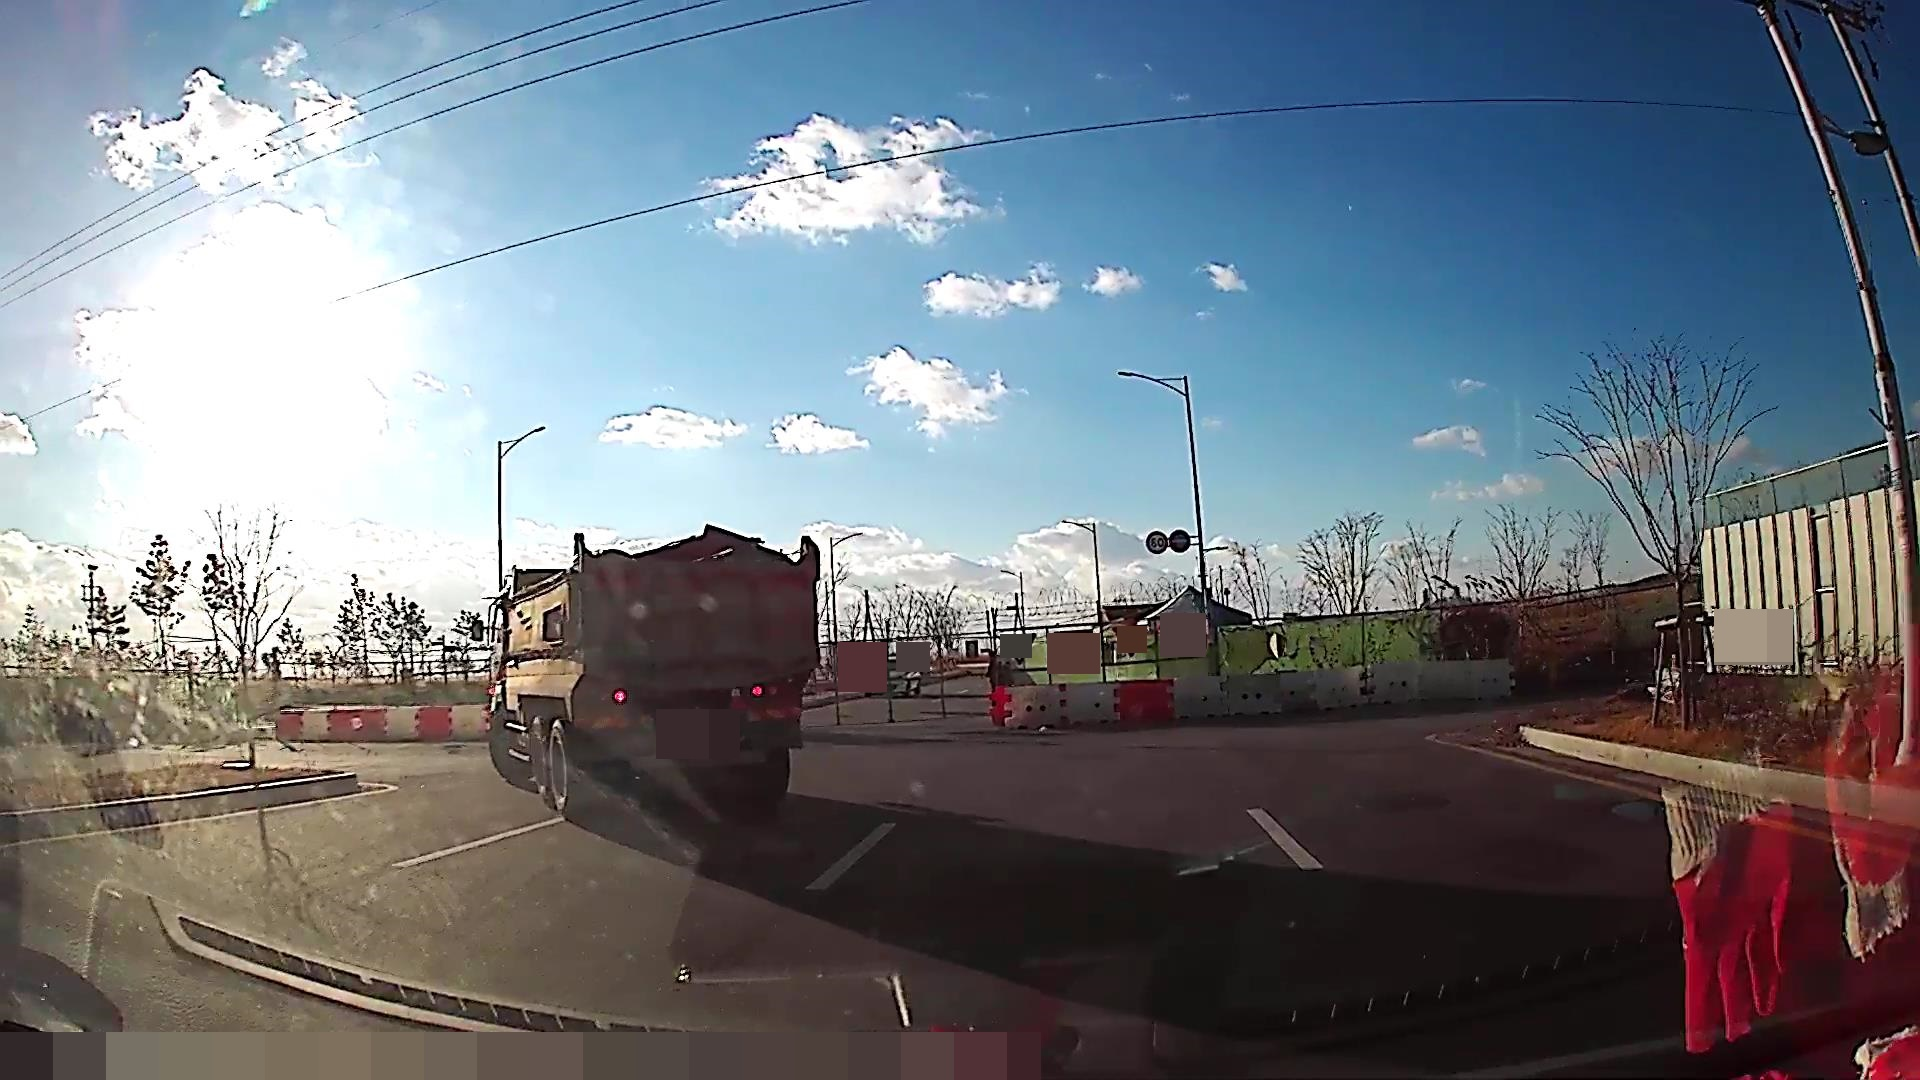불법차량: (471, 524, 822, 822)
